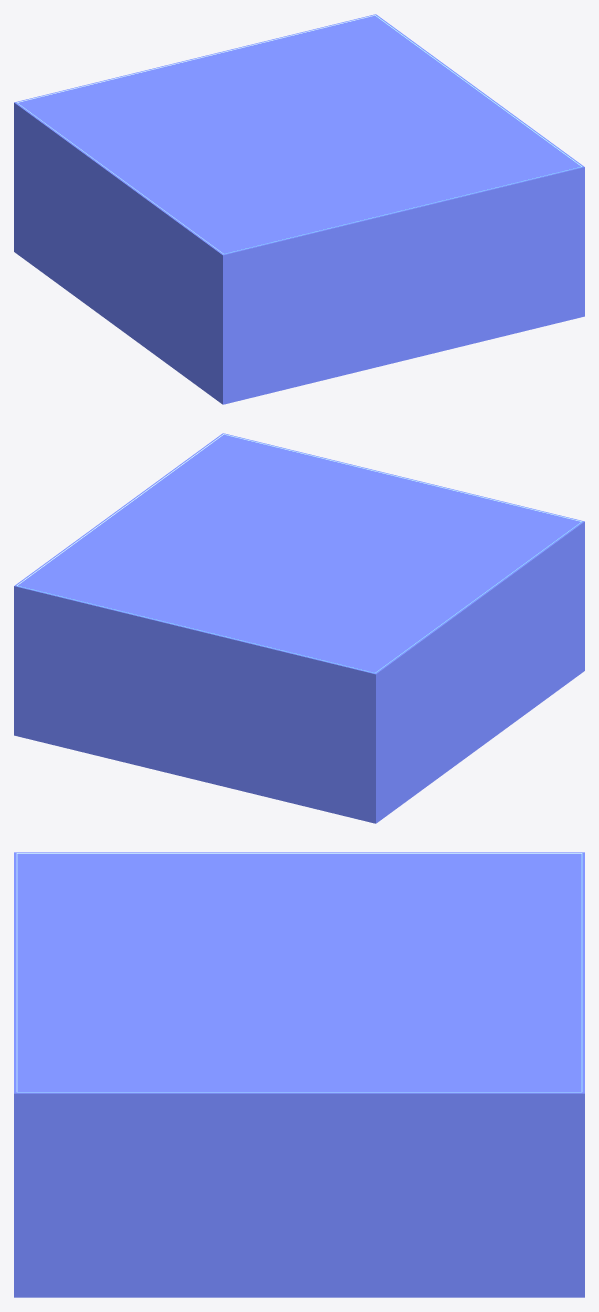
The model's file is 3d_gallery_for_vr_projects.glb.
3 views of the same model, one above another, from view 1: azimuth 30°, elevation 25°; view 2: azimuth 150°, elevation 25°; view 3: azimuth 270°, elevation 25° (orthographic). The views are drawn at different scales.
Parts seen in each view (by area): view 1: Cube_0, Cube.001_1; view 2: Cube_0, Cube.001_1; view 3: Cube_0, Cube.001_1.
Boxes of the visible parts, x1,y1,x2,y2 form: Cube_0: [14, 14, 584, 404]; Cube.001_1: [16, 15, 582, 254]; Cube_0: [14, 433, 584, 823]; Cube.001_1: [16, 434, 582, 673]; Cube_0: [14, 852, 584, 1297]; Cube.001_1: [16, 853, 582, 1092].
Size of the model in its own units: 8.29 by 3.28 by 8.29.
